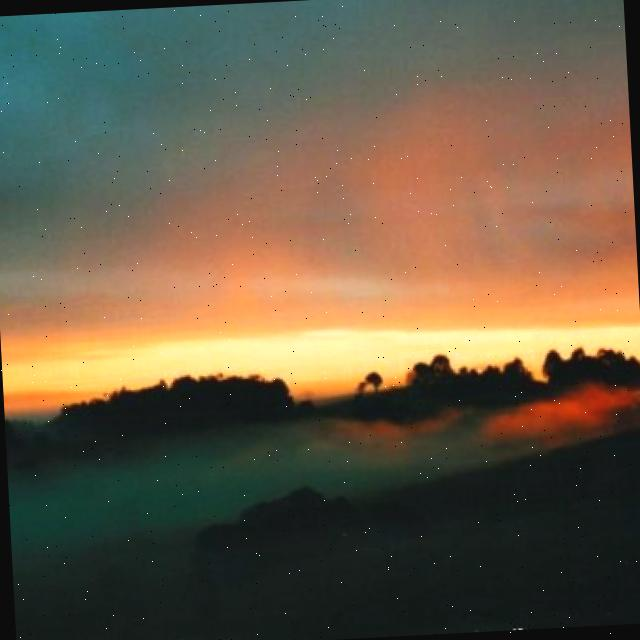Ns: (1, 1, 640, 355)
